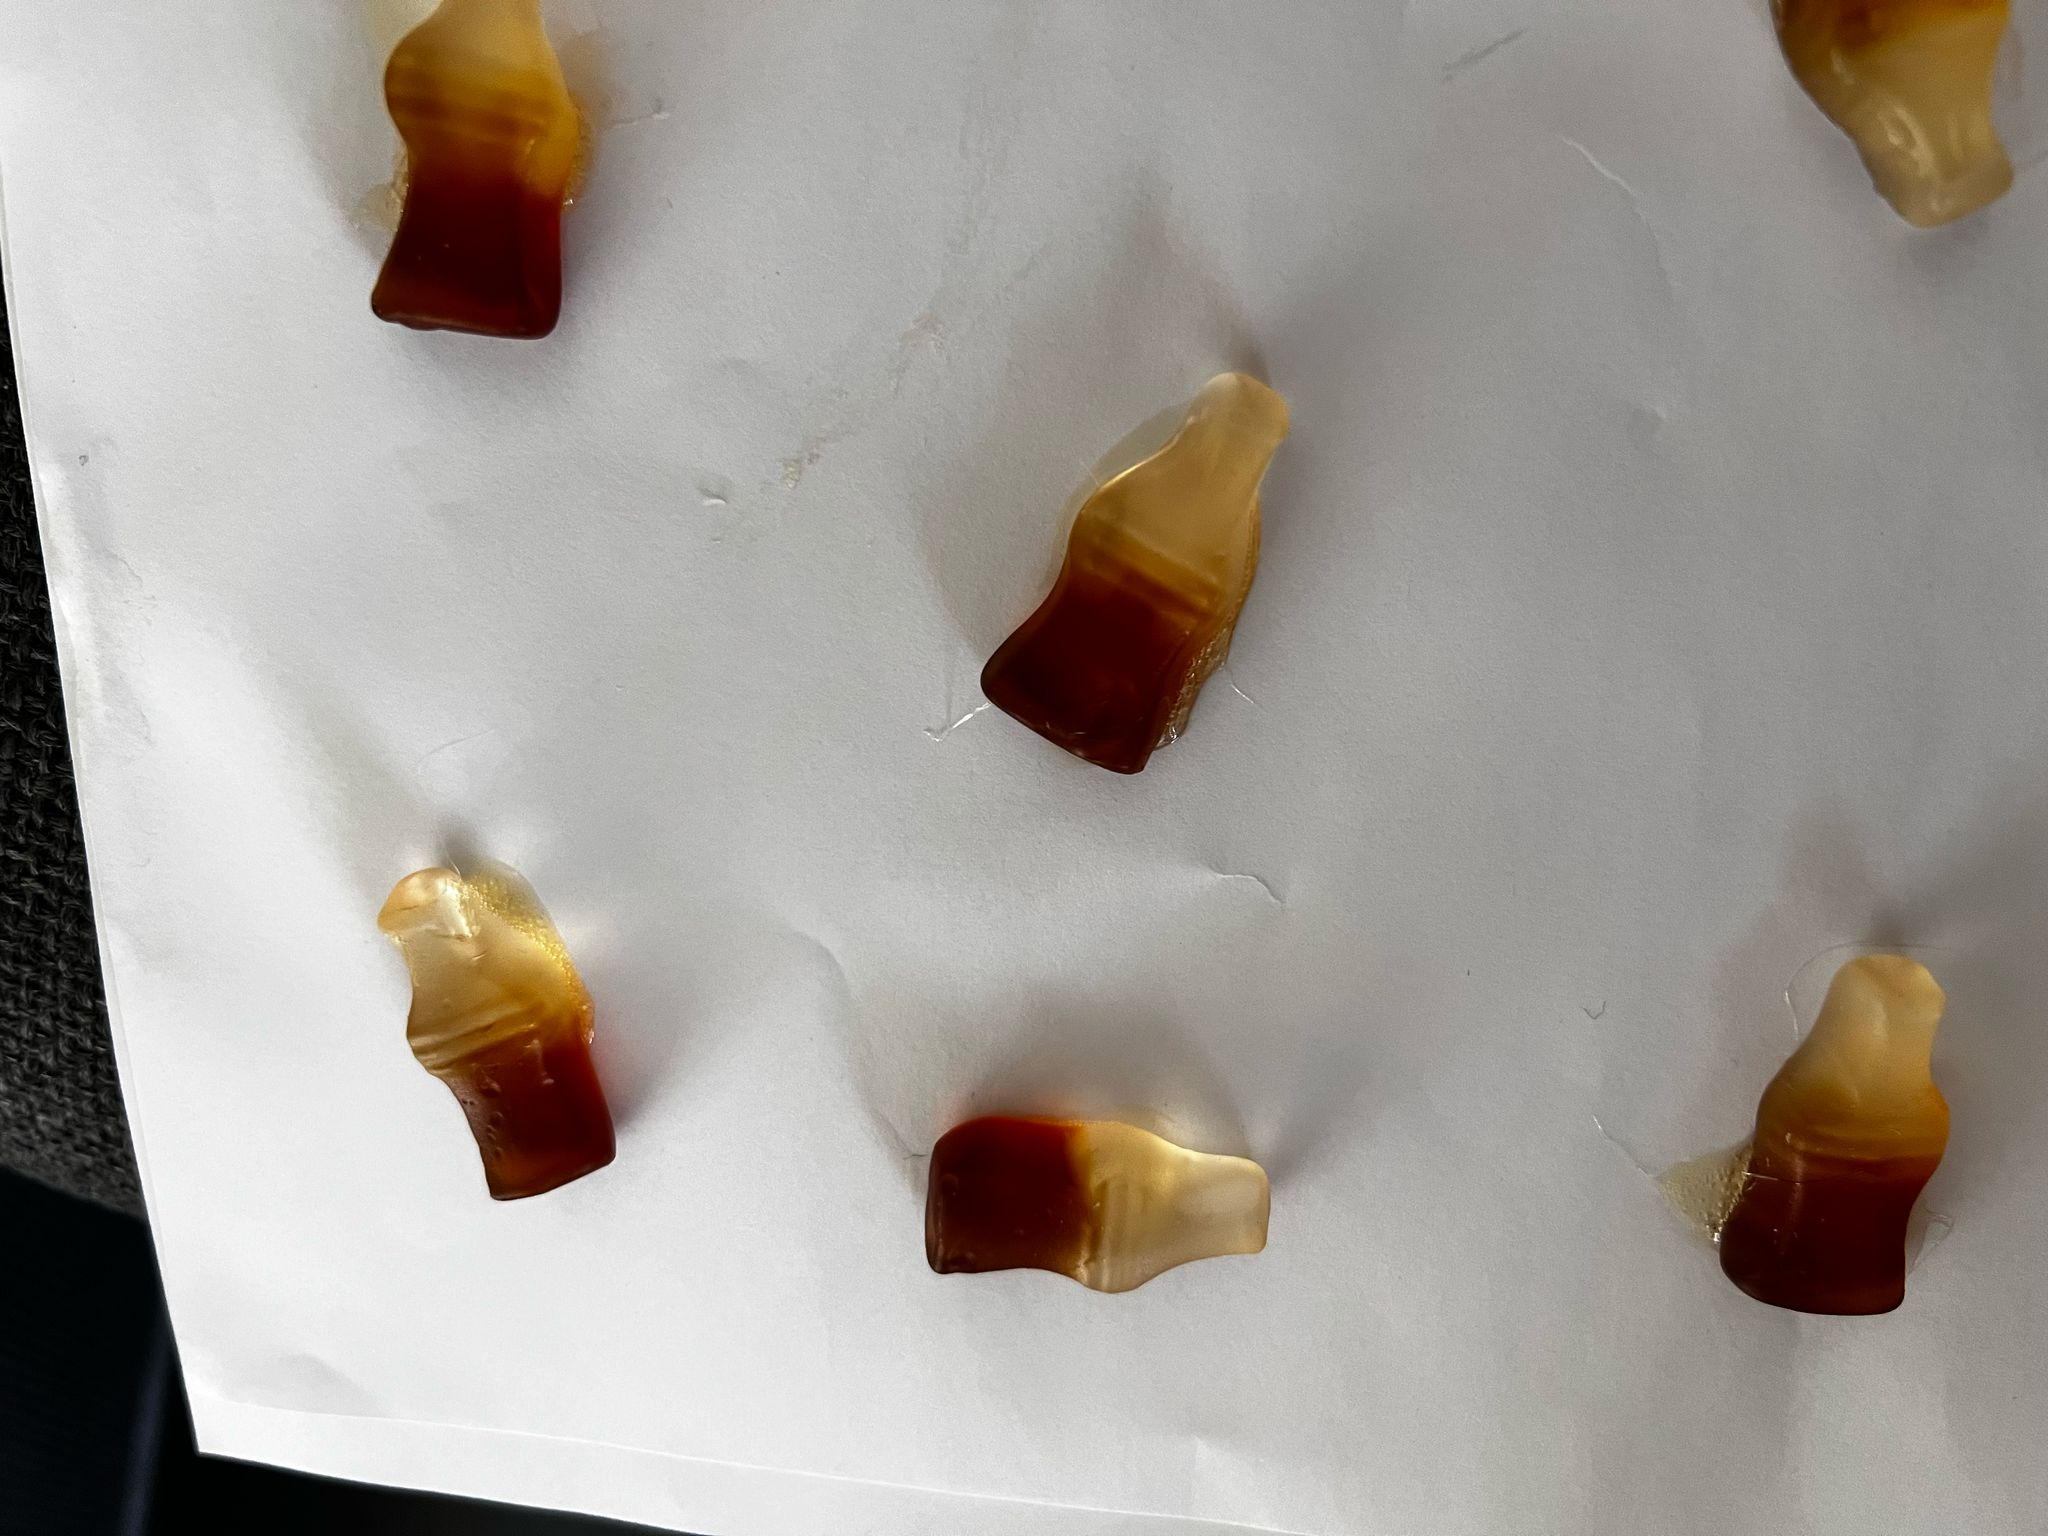cola: (976, 337, 1293, 781), (1708, 933, 1959, 1326), (364, 858, 645, 1208), (361, 2, 589, 357), (922, 1105, 1285, 1300)
